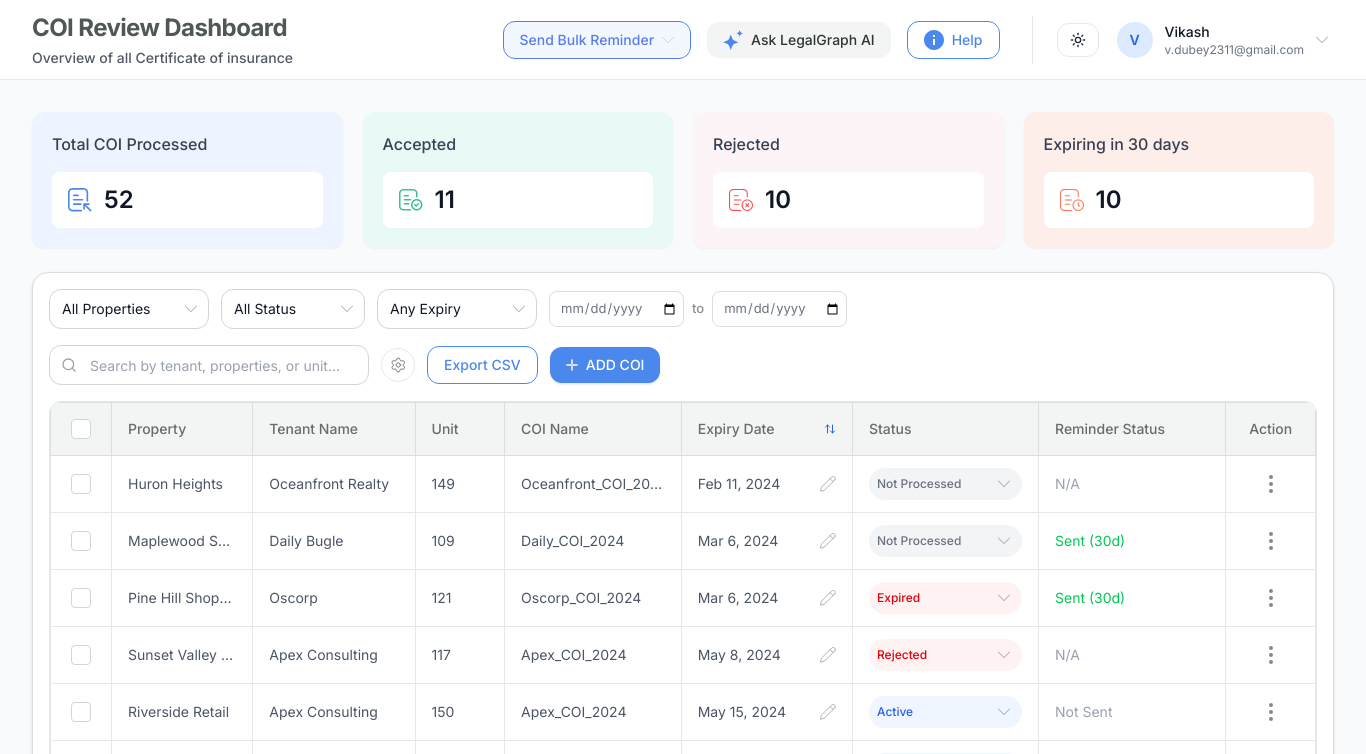
Test: Dashboard Page › opens Edit COI Modal when edit action is clicked
This screenshot has width=1366, height=754.
Click the 4th button with alt text "Options": {"x": 1271, "y": 484} [1265, 470, 1277, 496]
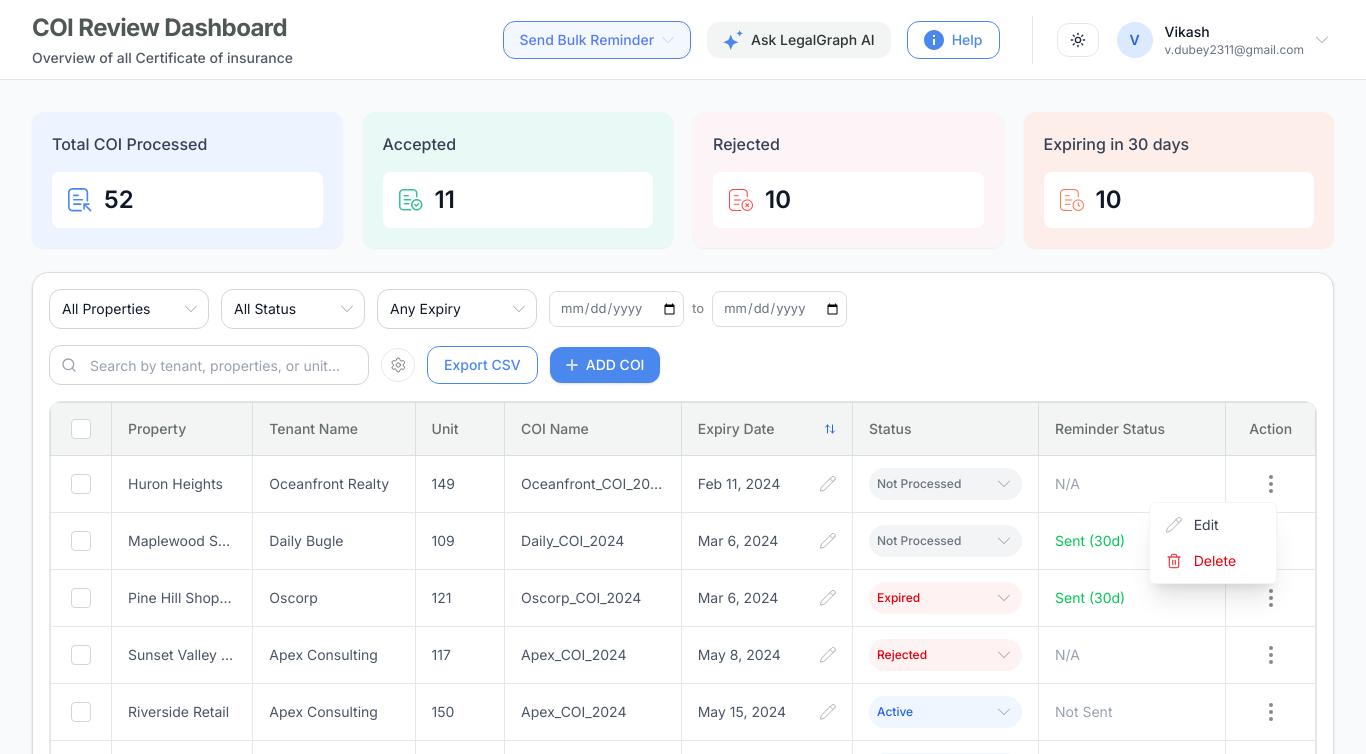
Click the menu item "Edit": {"x": 1213, "y": 524} [1150, 506, 1276, 542]
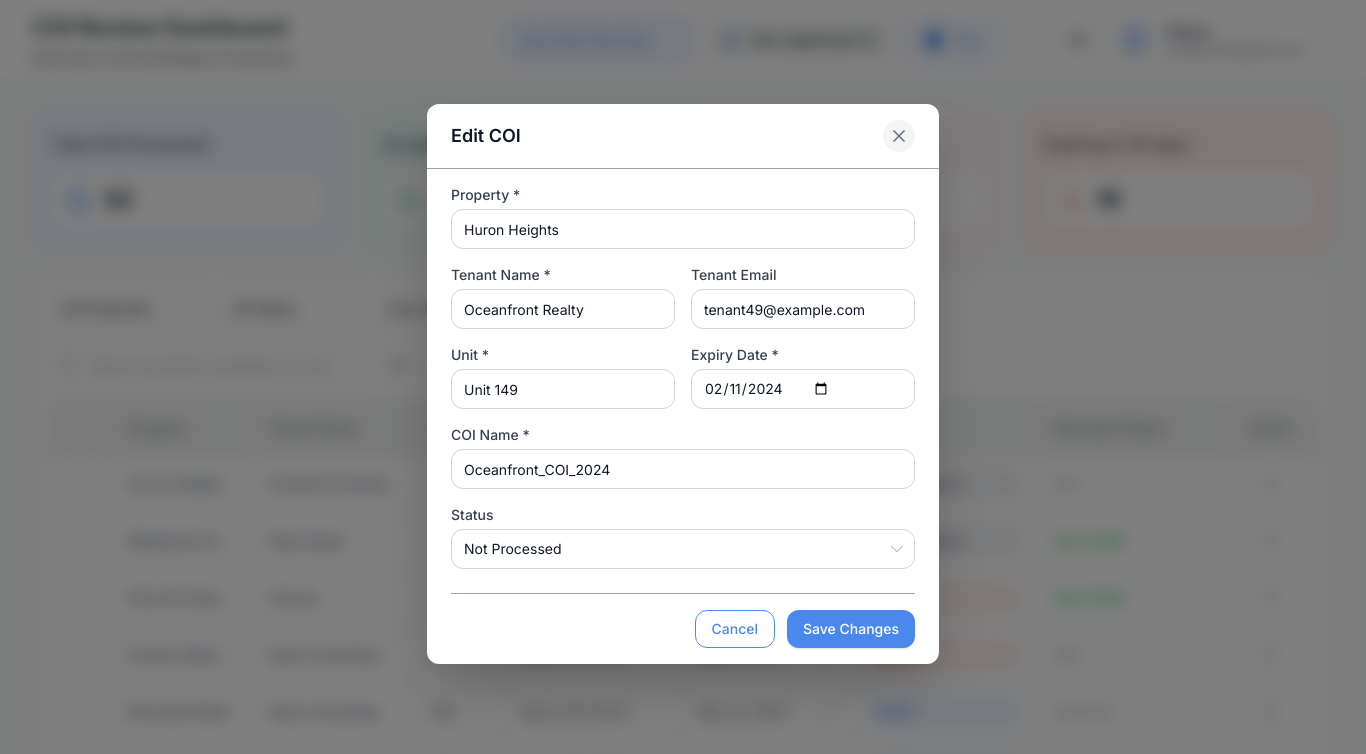
Expected: the heading "Edit COI" is shown, [451, 122, 521, 150]
